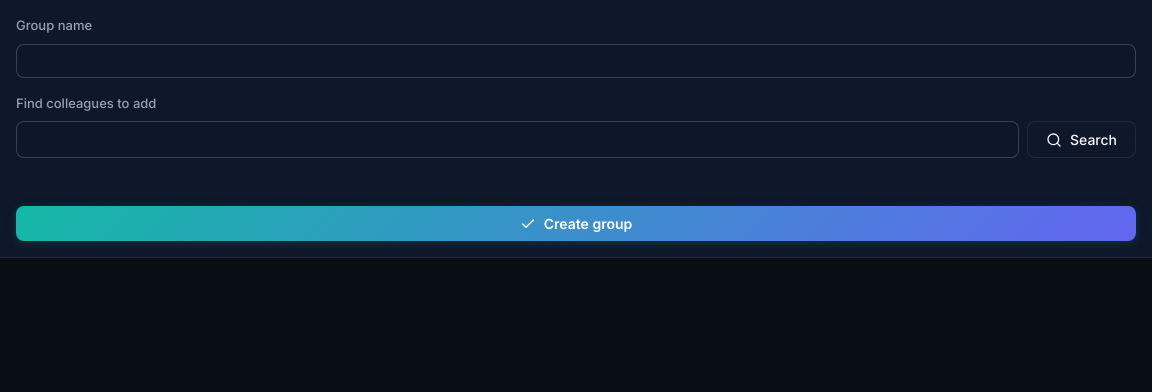
Test case: CreateGroupForm › reports a refused create without clearing what was typed
Step 1. Type "Design" into the field labelled "Group name" → (576, 60), box 16,44 -> 1136,78
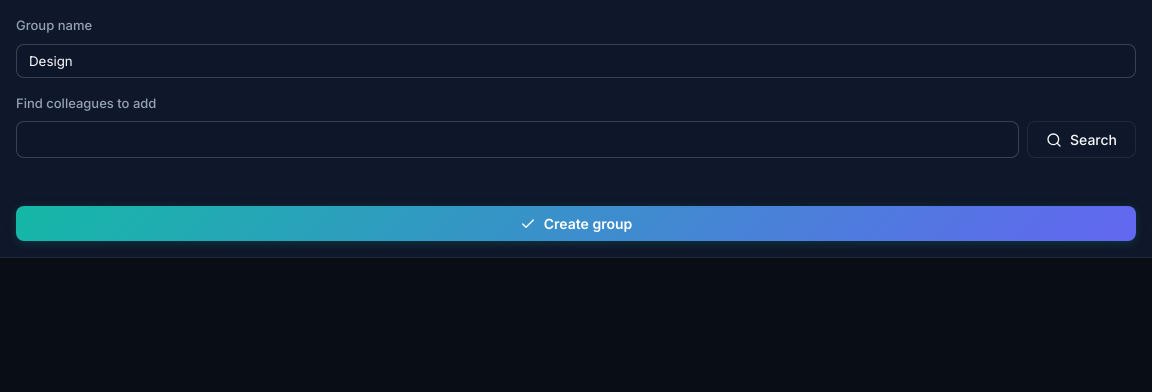
Step 2. Type "an" into the field labelled "Find colleagues to add" → (518, 140), box 16,121 -> 1019,158
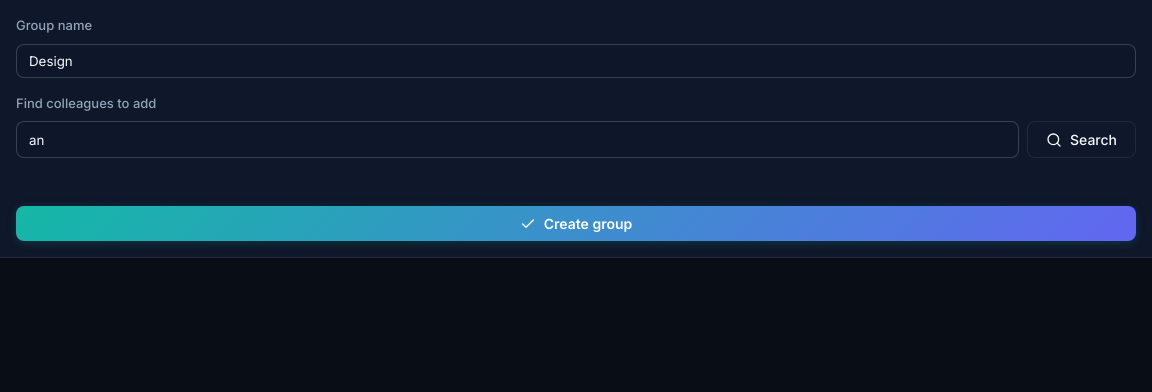
Step 3. Click the button "Search" → (1082, 140), box 1027,121 -> 1136,158
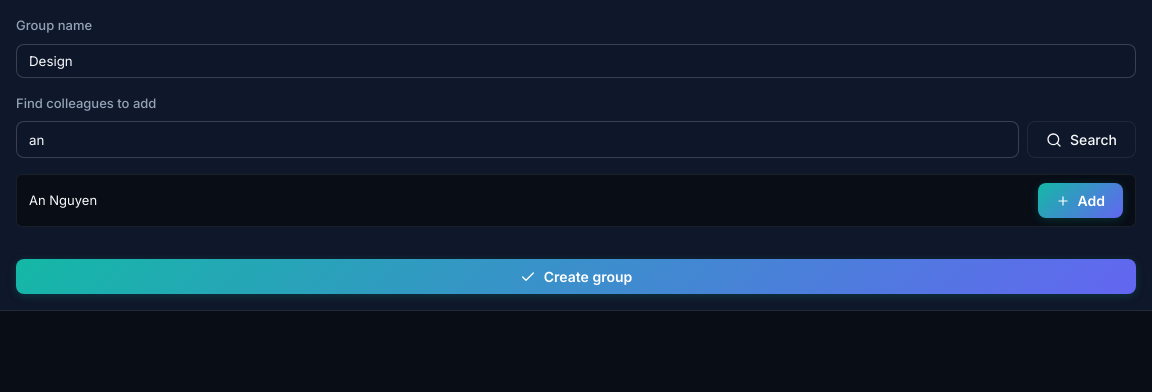
Step 4. Click the button "Add" → (1080, 200), box 1038,183 -> 1123,218
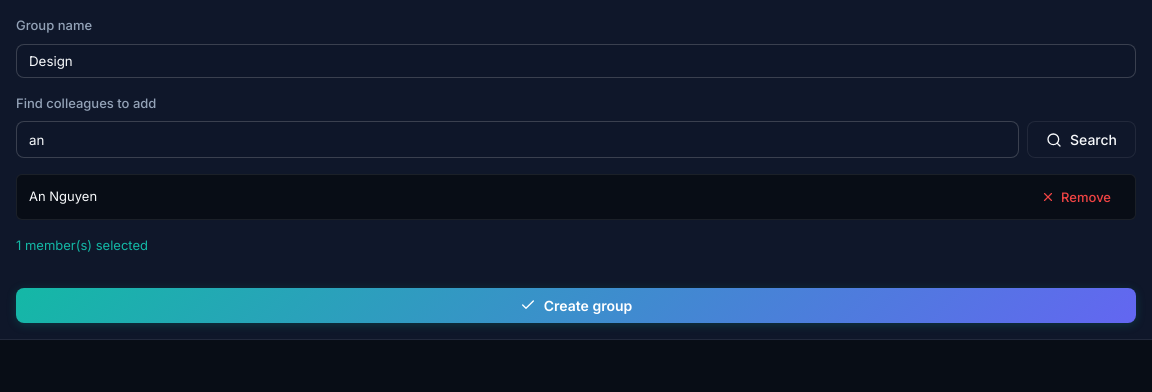
Step 5. Click the button "Create group" → (576, 305), box 16,288 -> 1136,322
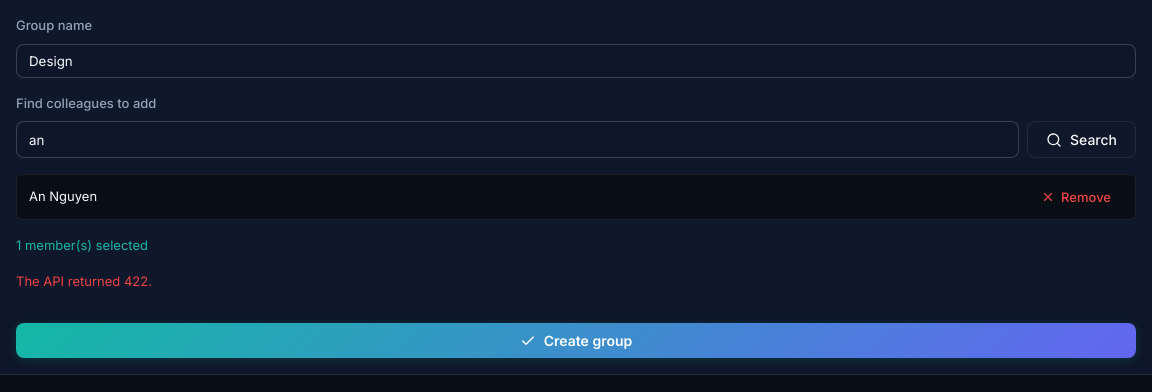
Check: the message reads "The API returned 422.", box 16,272 -> 152,288
